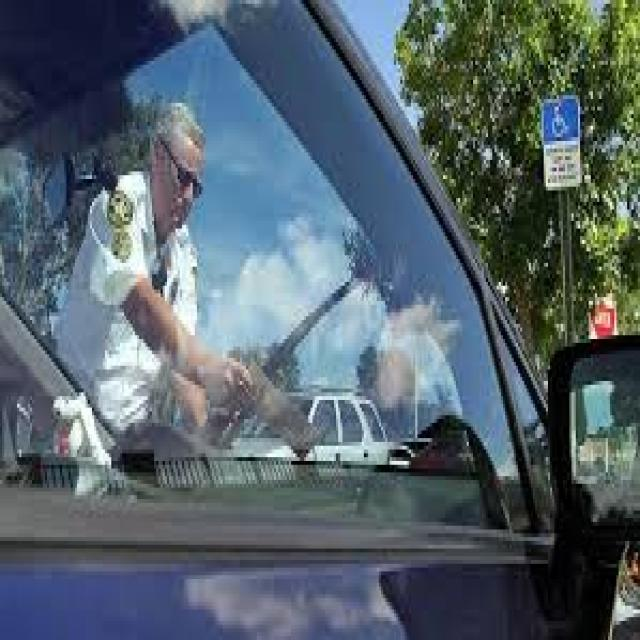car-handicap-placard: (549, 102, 570, 138)
